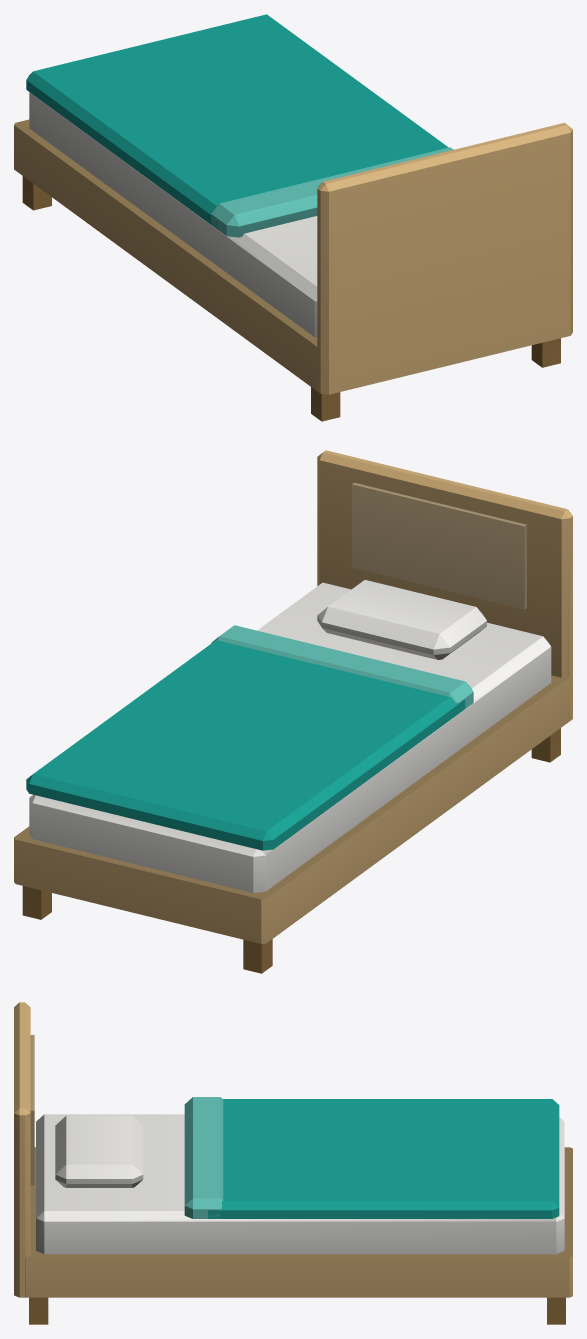
The model's file is bed_single_01.glb.
3 views of the same model, one above another, from view 1: azimuth 30°, elevation 25°; view 2: azimuth 150°, elevation 25°; view 3: azimuth 270°, elevation 25° (orthographic). The views are drawn at different scales.
Visible parts, largest first — view 1: bed_single_01_mesh; view 2: bed_single_01_mesh; view 3: bed_single_01_mesh.
Boxes of the visible parts, x1,y1,x2,y2 form: bed_single_01_mesh: [14, 14, 572, 421]; bed_single_01_mesh: [14, 450, 572, 973]; bed_single_01_mesh: [14, 1002, 572, 1324].
Size of the model in its own units: 0.95 by 0.87 by 2.03.
Materials: 1 (1 with a texture image).
